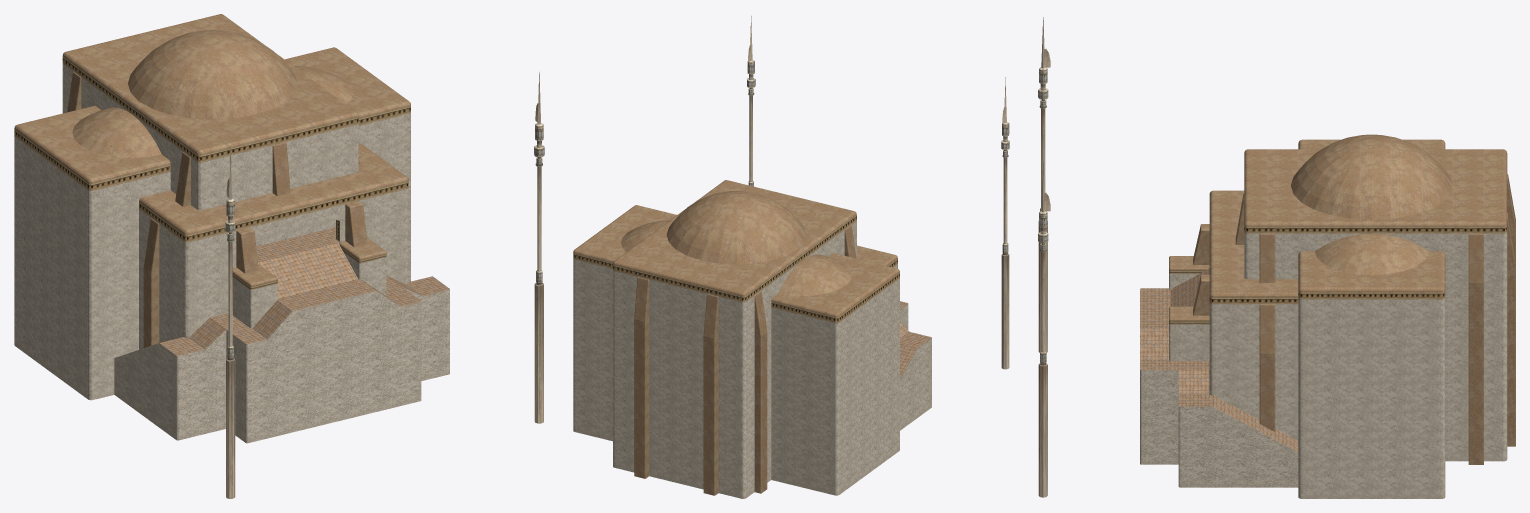
Rendered from ply_tato_capitol_s01_r0_mesh_l0.fbx.
The picture shows the model from 3 angles, left to right: view 1: azimuth 30°, elevation 25°; view 2: azimuth 150°, elevation 25°; view 3: azimuth 270°, elevation 25°; orthographic projection. The views are drawn at different scales.
Visible parts, largest first — view 1: mesh_node; view 2: mesh_node; view 3: mesh_node.
Part boxes in pixels (x1,y1,x2,y2): mesh_node: (14,14,544,498); mesh_node: (573,16,1009,498); mesh_node: (1038,17,1515,498).
Size of the model in its own units: 46 by 48.23 by 61.79.
